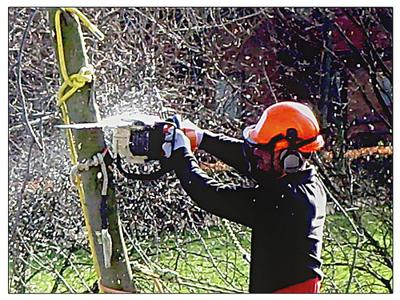person: (164, 101, 327, 293)
